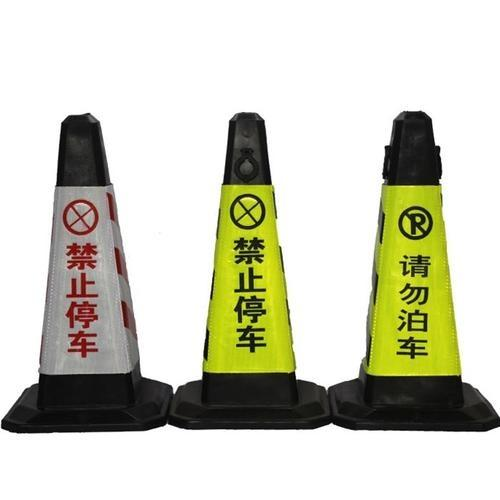cone_barrel: (7, 122, 164, 427), (337, 110, 483, 417), (176, 115, 317, 417)
